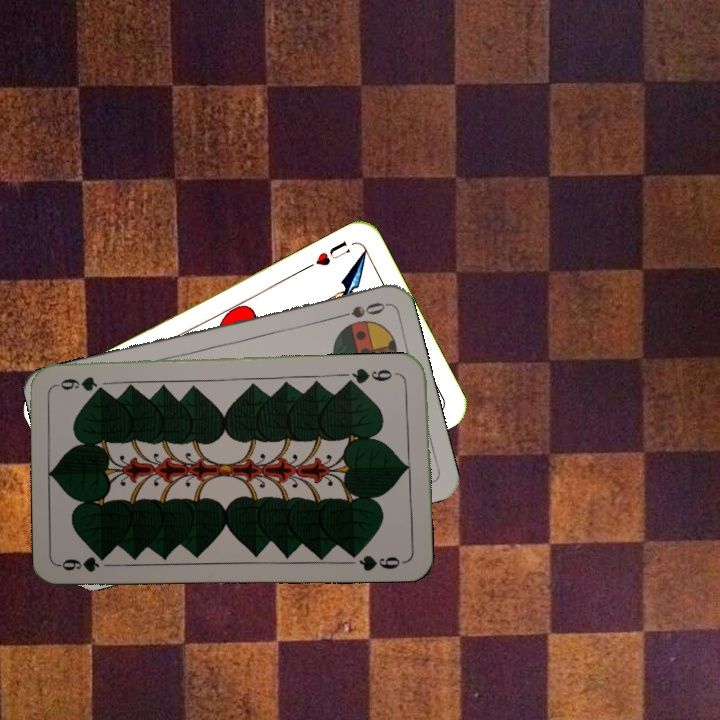G9: (344, 364, 403, 388), (58, 552, 110, 575)
HU: (301, 237, 353, 272)
SO: (329, 298, 388, 322)
